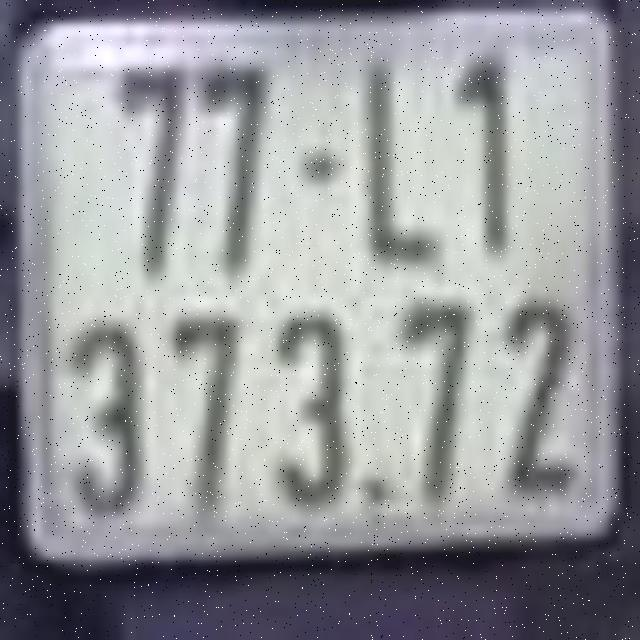1: (458, 54, 516, 255)
2: (504, 296, 581, 497)
3: (66, 320, 145, 518), (275, 310, 348, 507)
7: (117, 65, 185, 279), (400, 297, 470, 504), (200, 65, 268, 276), (171, 312, 239, 513)
L: (363, 56, 442, 264)
